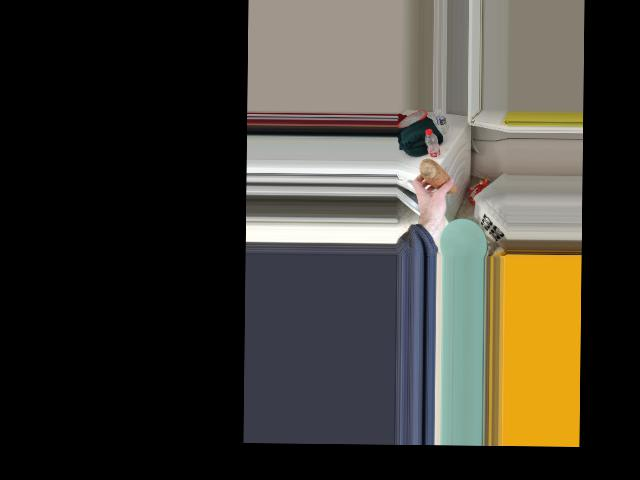sweet_potato: (416, 159, 460, 193)
